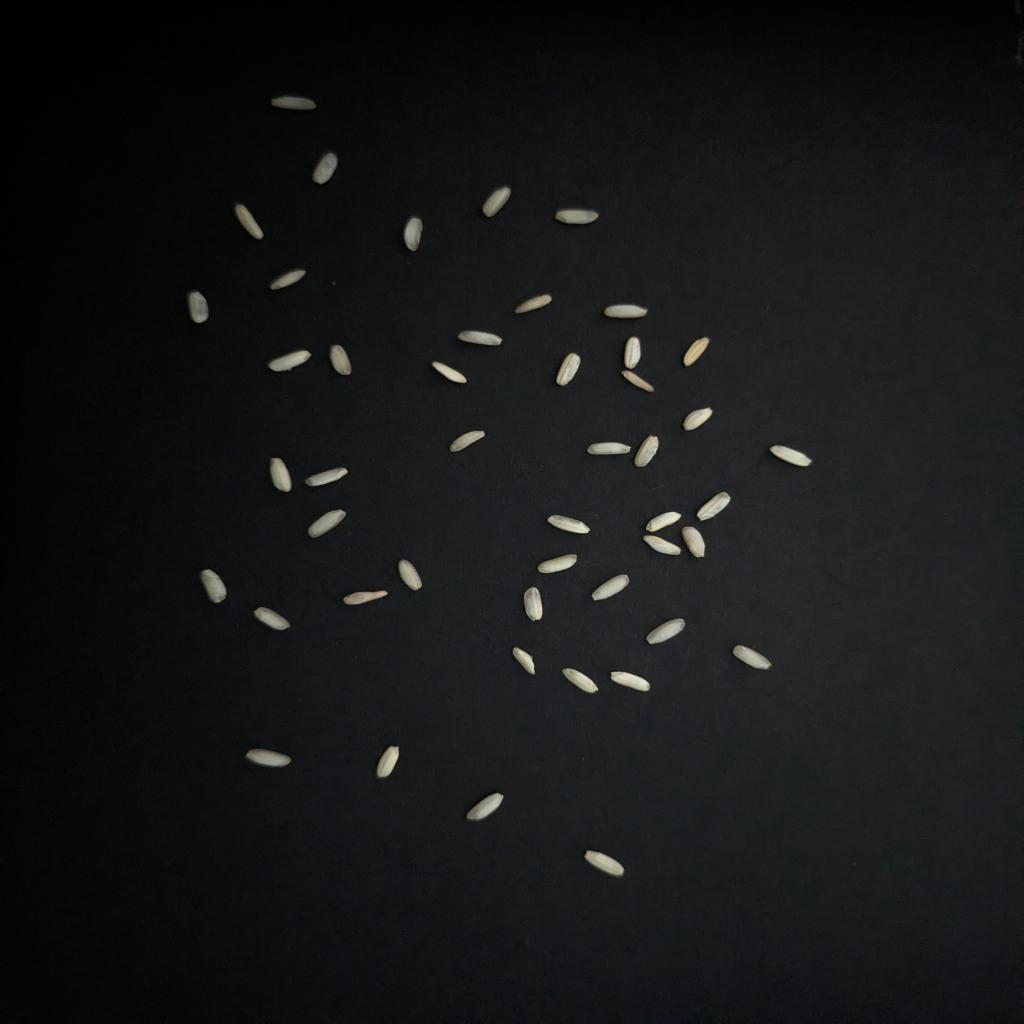chalky: (306, 510, 346, 538), (234, 204, 264, 240), (583, 850, 623, 876), (466, 792, 503, 820), (591, 574, 629, 600), (647, 618, 685, 644), (732, 646, 772, 670), (269, 350, 312, 372), (482, 186, 511, 218), (245, 748, 290, 768), (698, 492, 730, 520), (253, 606, 290, 630), (562, 668, 599, 692), (200, 570, 226, 604), (770, 446, 812, 466), (312, 152, 338, 184), (269, 458, 293, 492), (269, 268, 306, 290), (304, 468, 349, 486), (549, 514, 589, 534), (538, 554, 578, 574), (642, 536, 682, 556), (610, 672, 650, 692), (402, 216, 424, 252), (450, 430, 485, 452), (557, 354, 581, 386), (634, 436, 658, 468), (376, 746, 400, 778), (682, 526, 706, 558), (682, 338, 709, 366), (186, 290, 208, 324), (432, 362, 466, 384), (621, 370, 655, 392), (514, 294, 551, 314), (554, 208, 599, 224), (400, 560, 424, 590), (330, 344, 352, 376), (458, 330, 501, 346), (645, 512, 679, 532), (623, 336, 642, 370), (682, 408, 711, 430), (272, 96, 317, 110), (586, 442, 631, 456), (344, 590, 389, 604), (511, 648, 535, 674), (605, 304, 647, 318), (525, 588, 543, 620)
